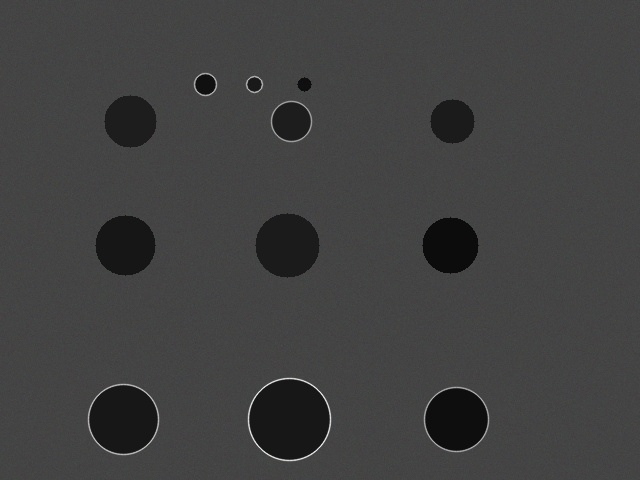hole: (248, 378, 330, 460), (88, 384, 158, 454), (255, 213, 319, 277), (424, 387, 488, 451), (95, 215, 155, 275), (422, 217, 478, 273), (104, 95, 156, 147), (430, 99, 474, 143), (271, 101, 311, 141), (194, 73, 216, 95), (246, 76, 262, 92), (297, 77, 311, 91)
